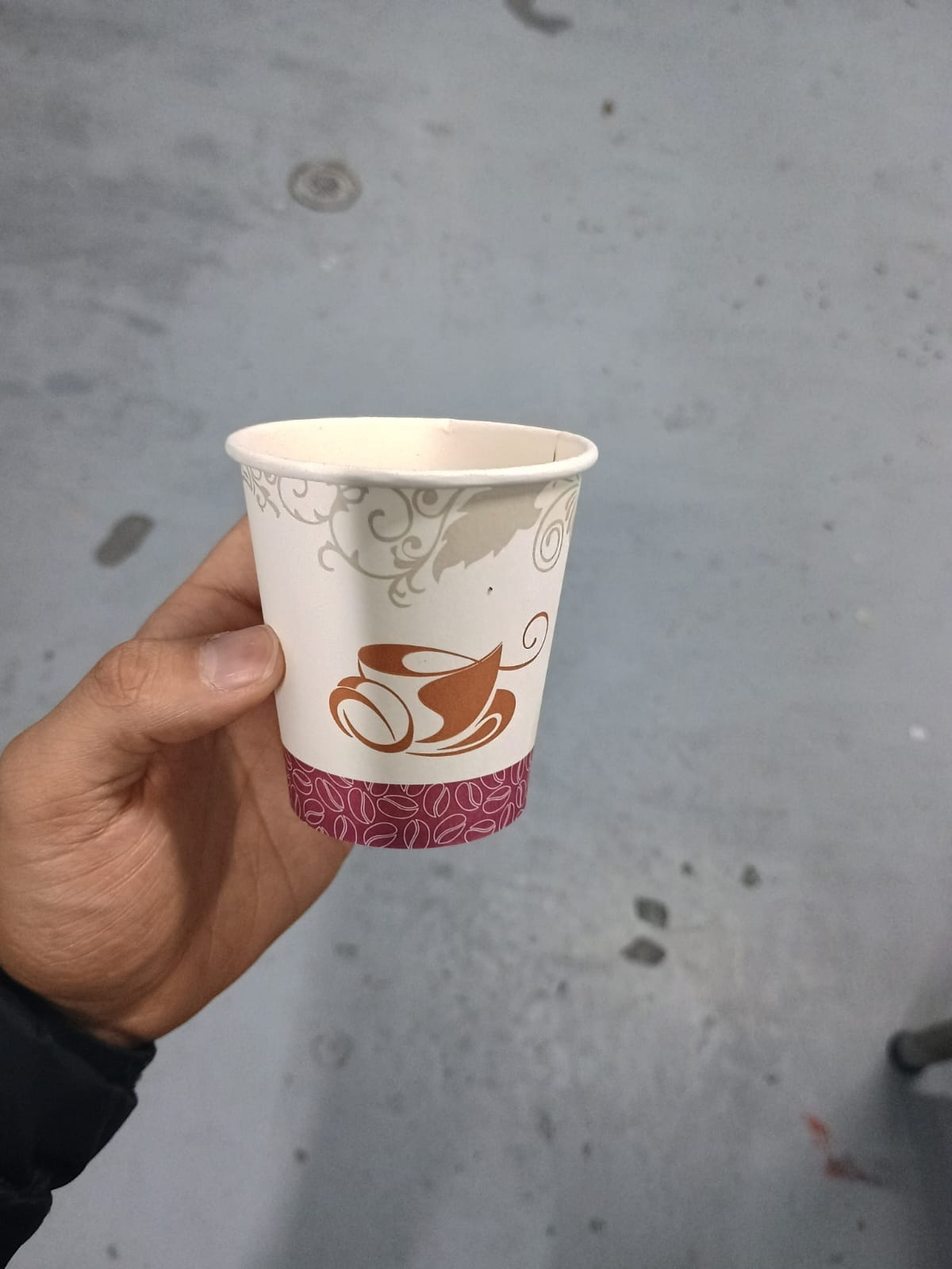Carton: (228, 416, 598, 850)
